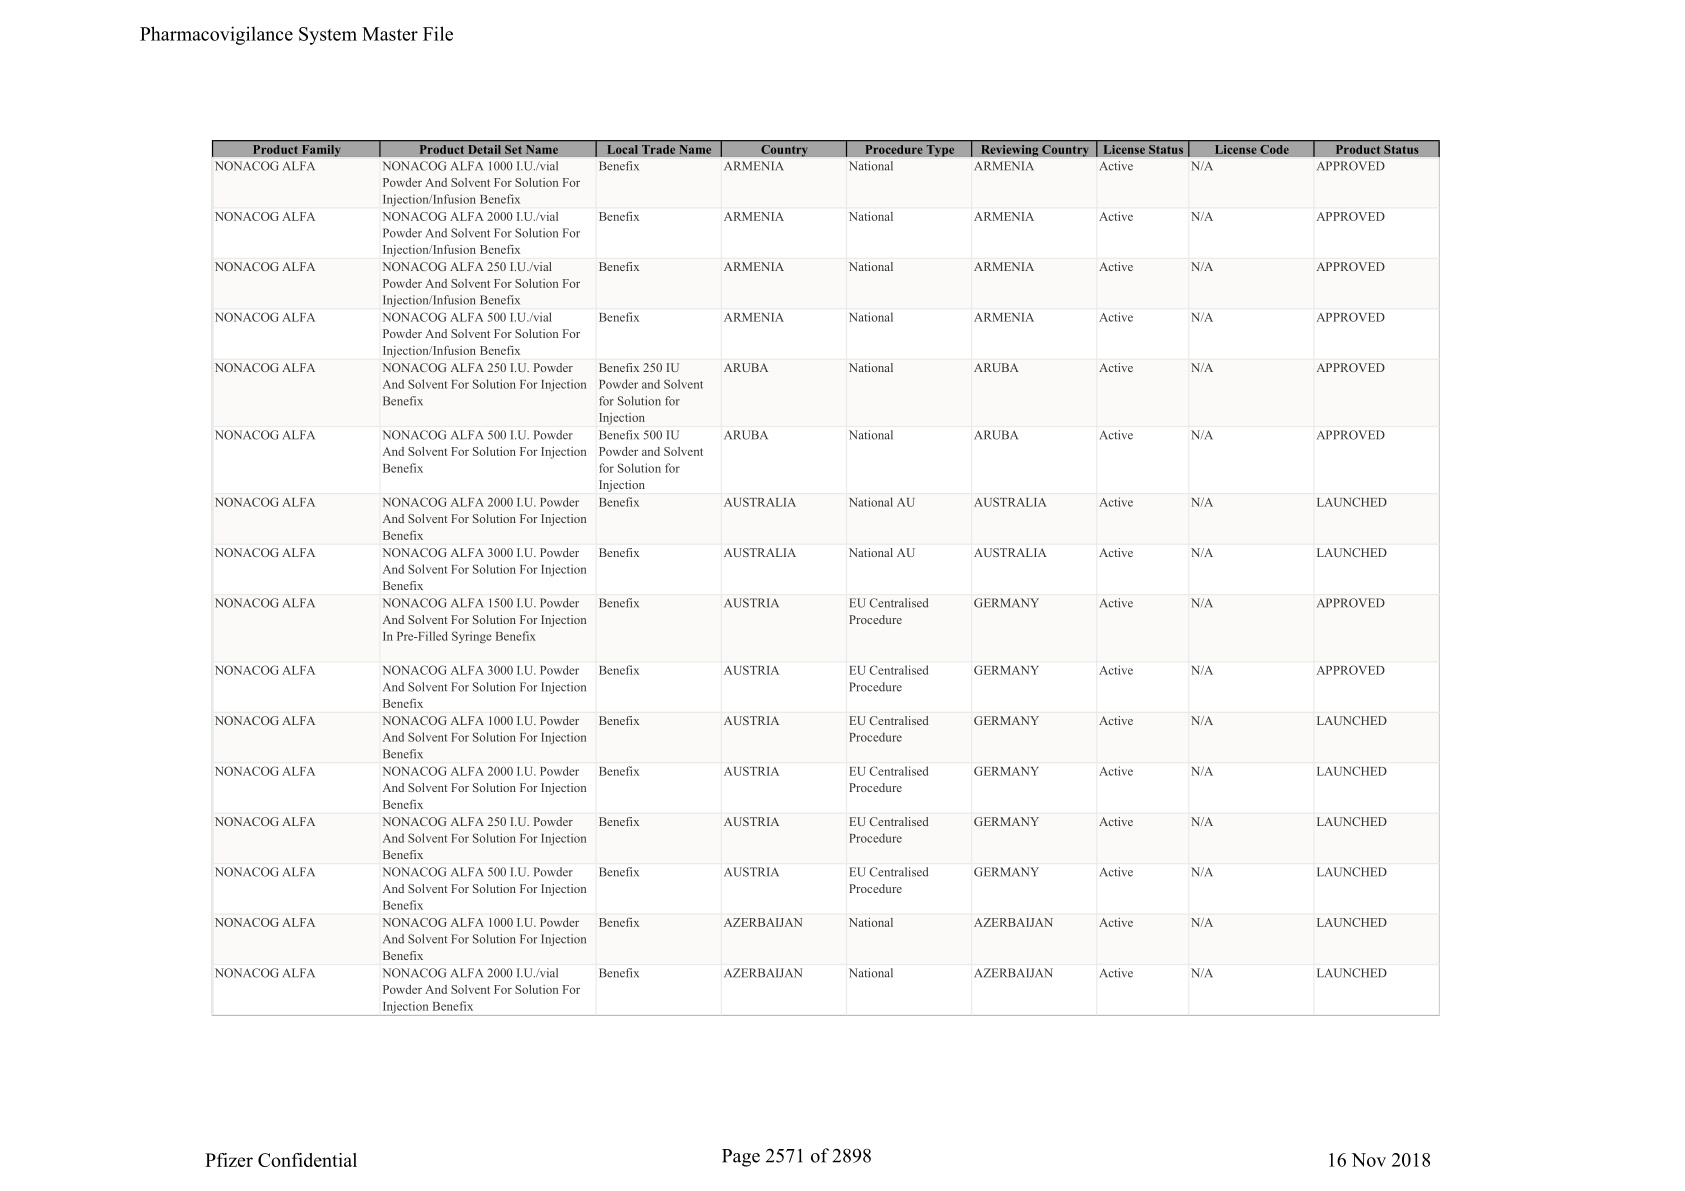full_lined: (210, 139, 1440, 1016)
